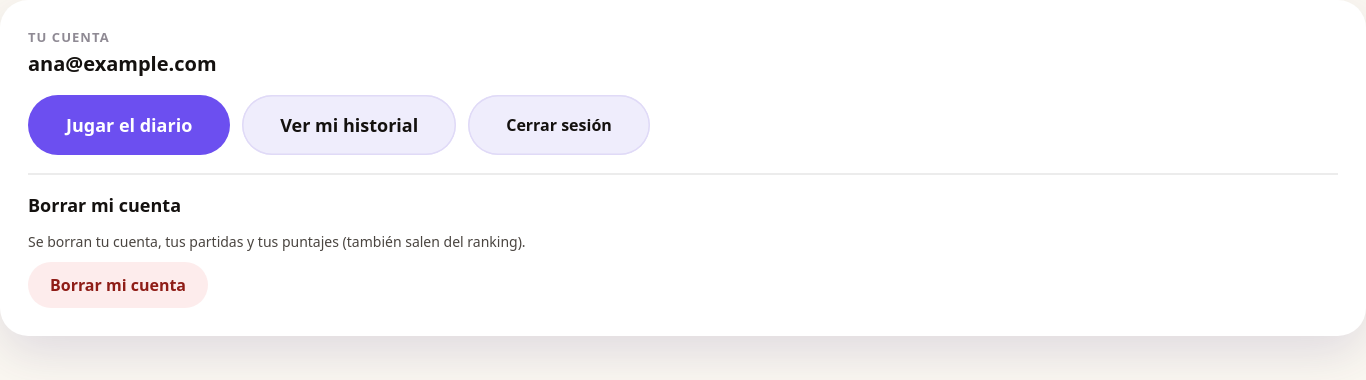
Test: PanelCuenta › cerrar sesión la cierra en el servidor y en este dispositivo, pero deja el historial del dispositivo
Click the button "Cerrar sesión": [559, 125] box [468,95,650,155]
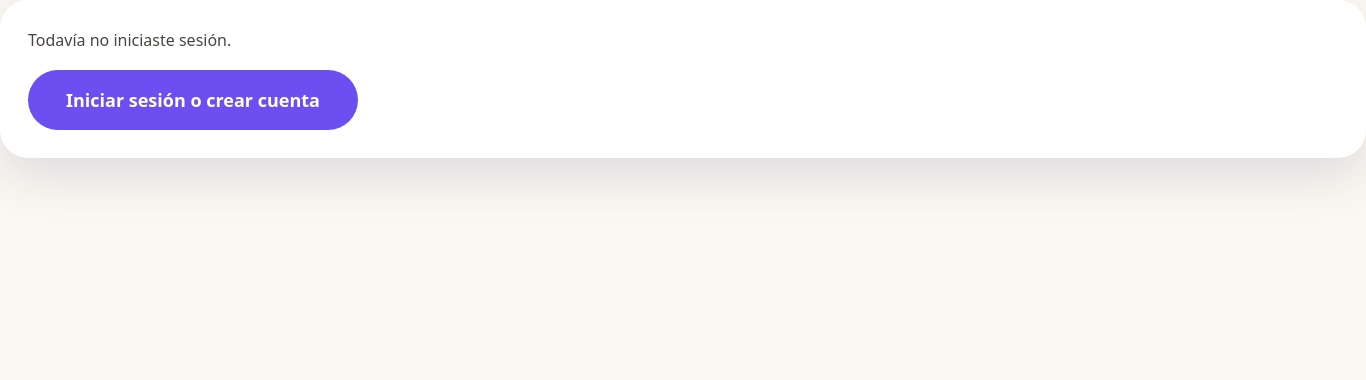
expect the text "Todavía no iniciaste sesión." is shown: met, box [28,29,231,51]
